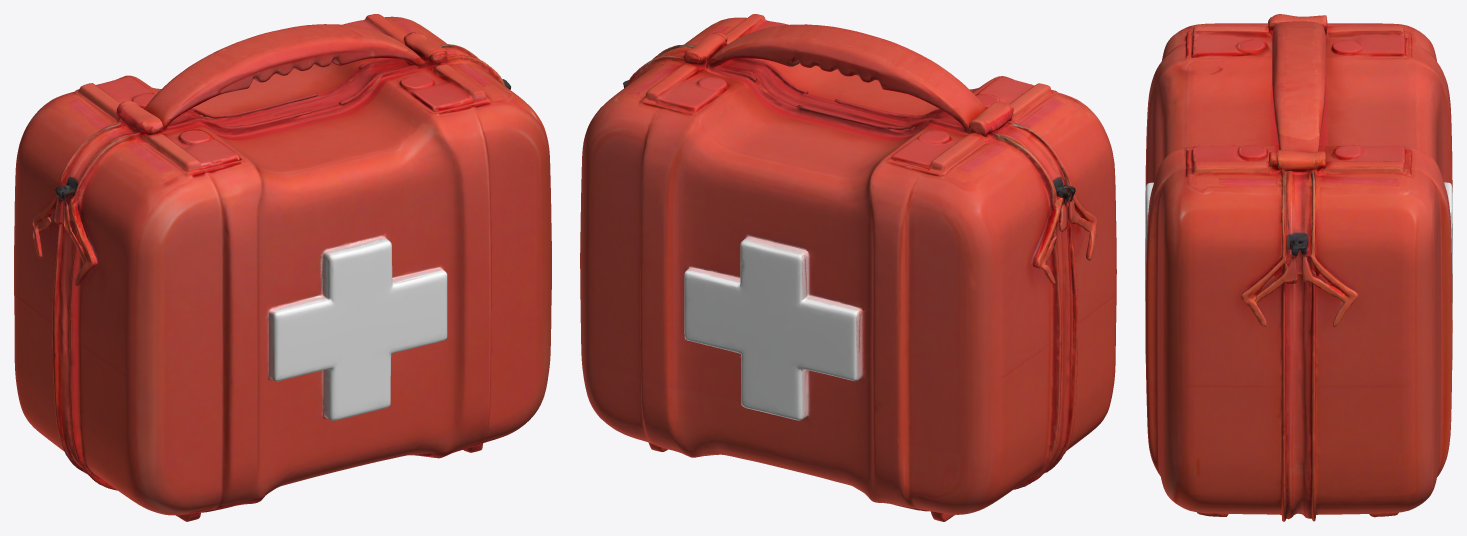
File: first-aid-kit.glb
3 renders of one model, left to right at view 1: azimuth 30°, elevation 25°; view 2: azimuth 150°, elevation 25°; view 3: azimuth 270°, elevation 25°, orthographic. The views are drawn at different scales.
Bounding box in the file's own units: 2 × 1.75 × 1.22.
1 material, 1 textured.
